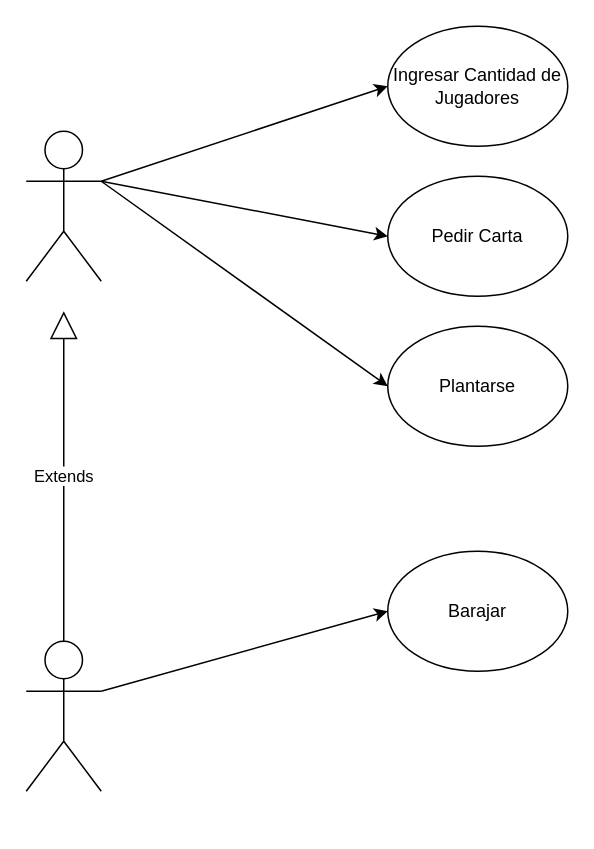
Image size: 594x849. Some labels were removed from this diagram. The centre of each missing label's shape, as x and y in pixels:
"Banca" belongs at point (63, 715).
"Usuario" belongs at point (63, 205).
